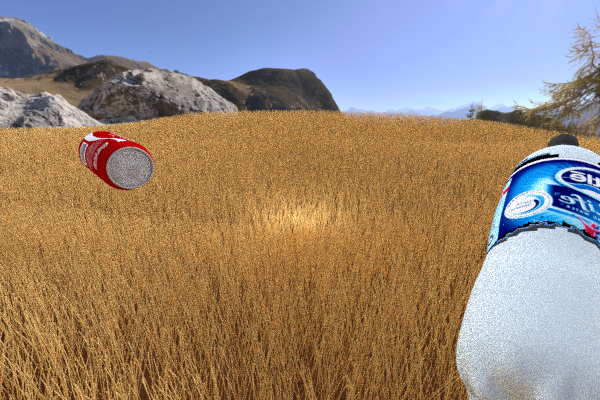bottle: (456, 134, 600, 400)
can: (78, 131, 154, 190)
